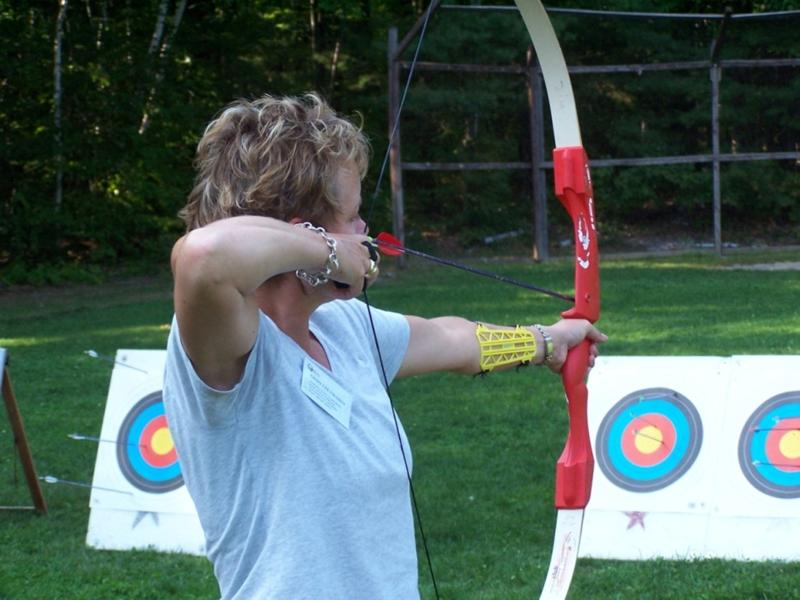person: (165, 94, 614, 600)
